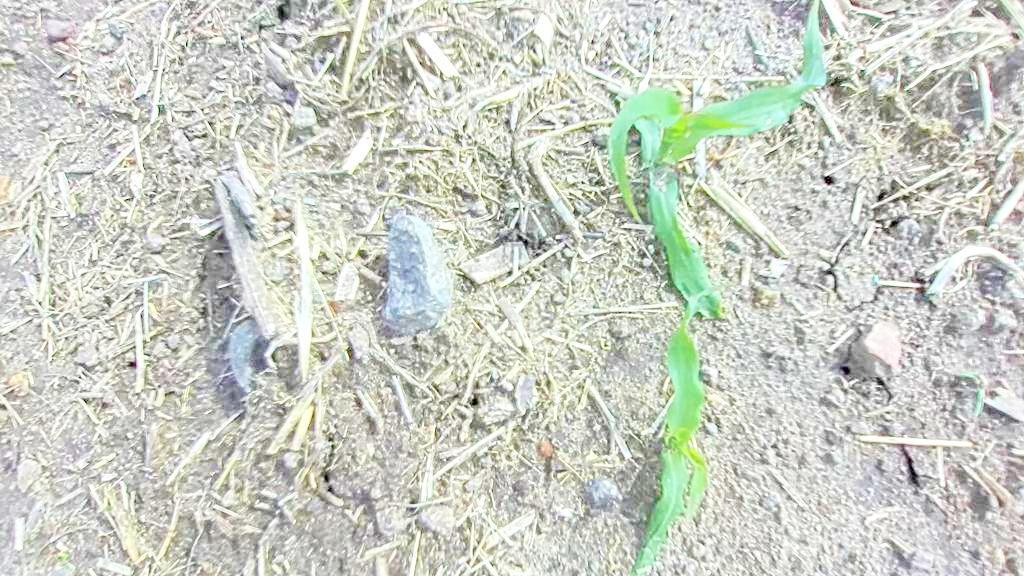BroWeed: (938, 367, 989, 417), (55, 549, 68, 562)
Maize: (633, 273, 737, 576)
